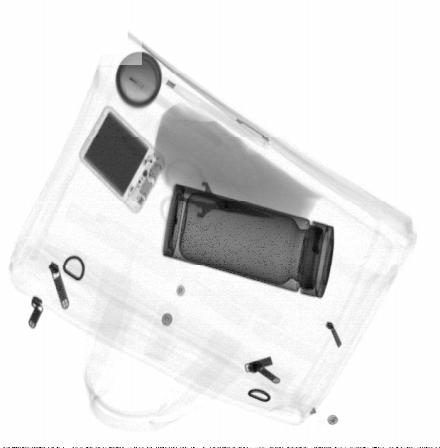Powerbank: (79, 105, 165, 215)
Scissors: (158, 157, 281, 229)
